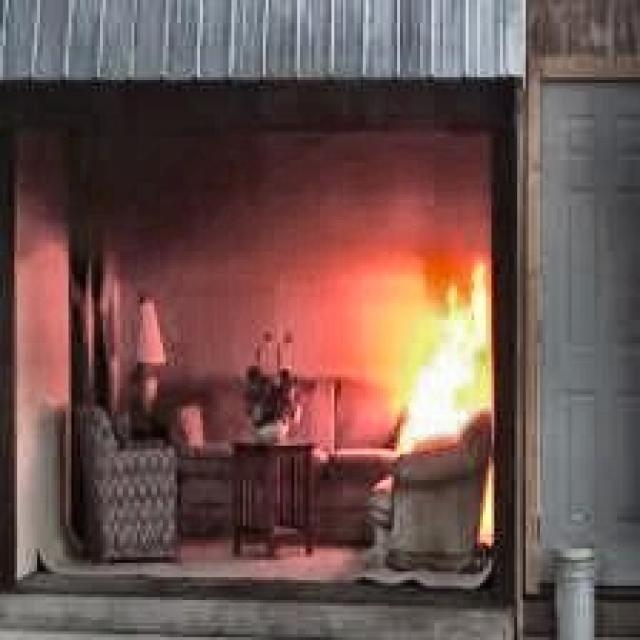fire: (380, 234, 511, 460)
